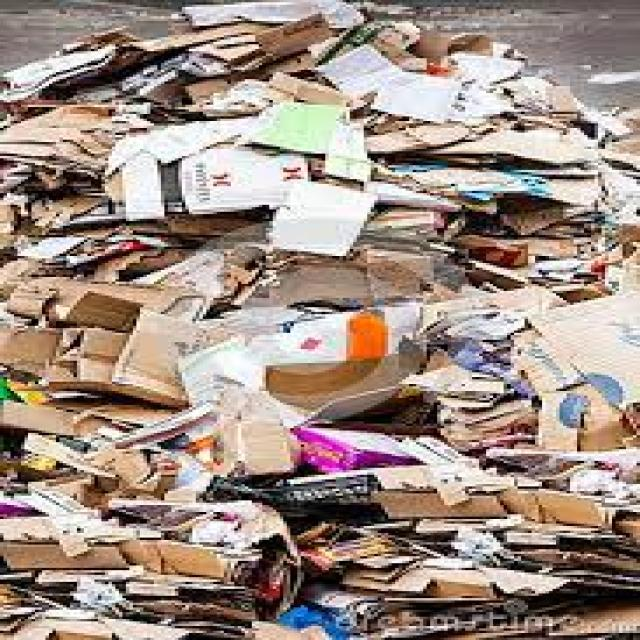cardboard: (25, 16, 622, 628)
